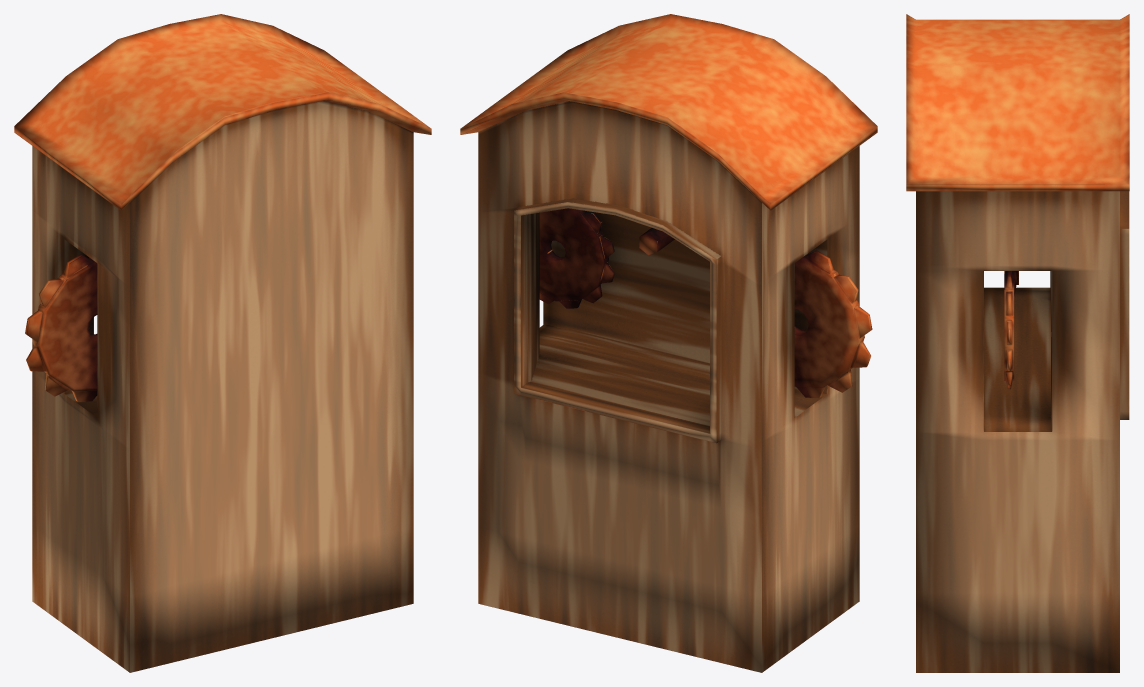
File: Machinerie.fbx
3 views of the same model, side by side, from view 1: azimuth 30°, elevation 25°; view 2: azimuth 150°, elevation 25°; view 3: azimuth 270°, elevation 25° (orthographic). The views are drawn at different scales.
Parts seen in each view (by area): view 1: Machinerie; view 2: Machinerie; view 3: Machinerie.
Boxes of the visible parts, <box> form: Machinerie: <box>14,14,431,672</box>; Machinerie: <box>460,14,877,672</box>; Machinerie: <box>906,14,1129,672</box>.
Size of the model in its own units: 165 by 230 by 82.71.
1 material, 1 textured.
